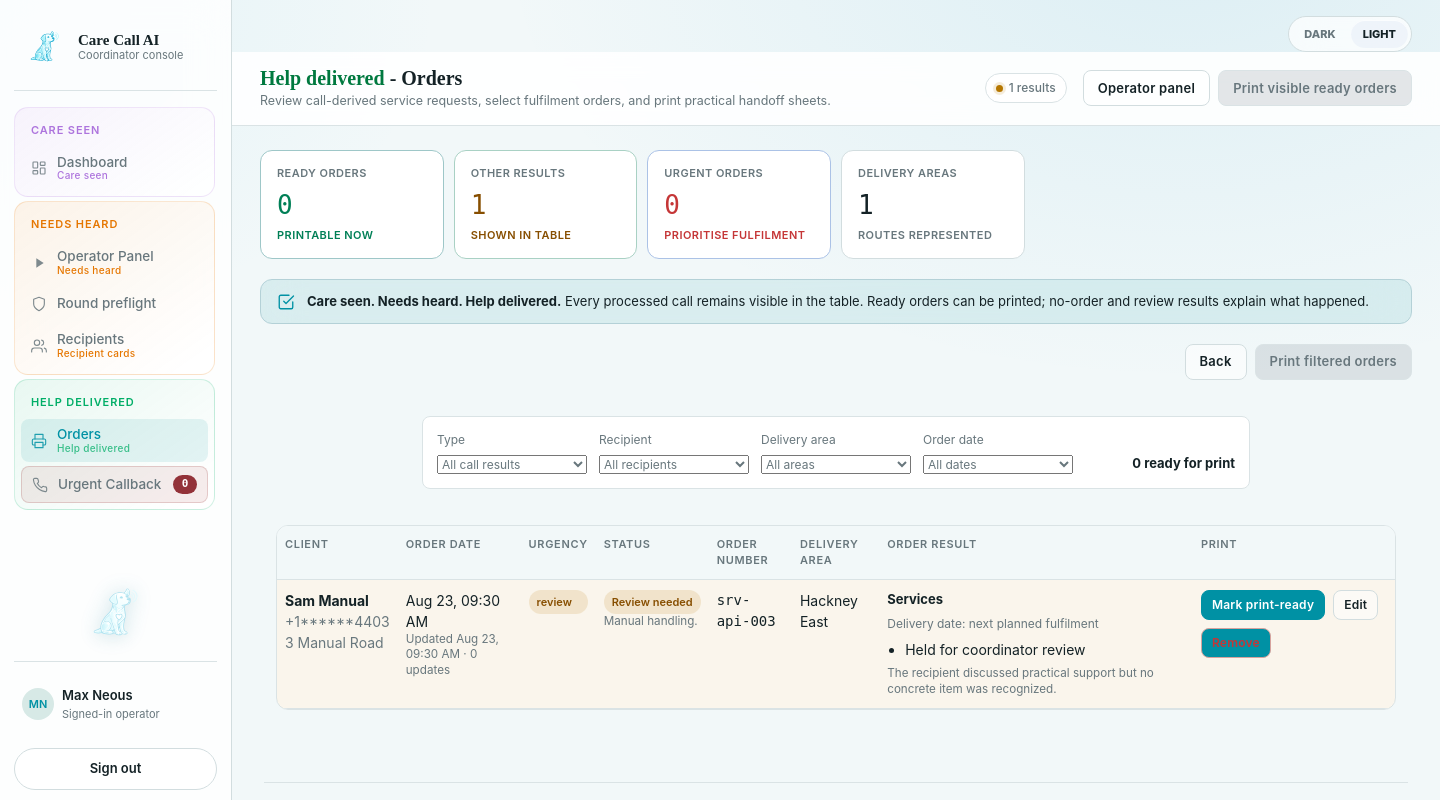
Scenario: PrintableOrderSheet › opens correction editing when marking a held result print-ready without recognized items
This screenshot has width=1440, height=800.
What coordinates should you click on to do the following:
click the button "Mark print-ready"
I would click on:
 (1263, 605)
Its box is top-left (1201, 590), bottom-right (1325, 620).
(page scrolled)
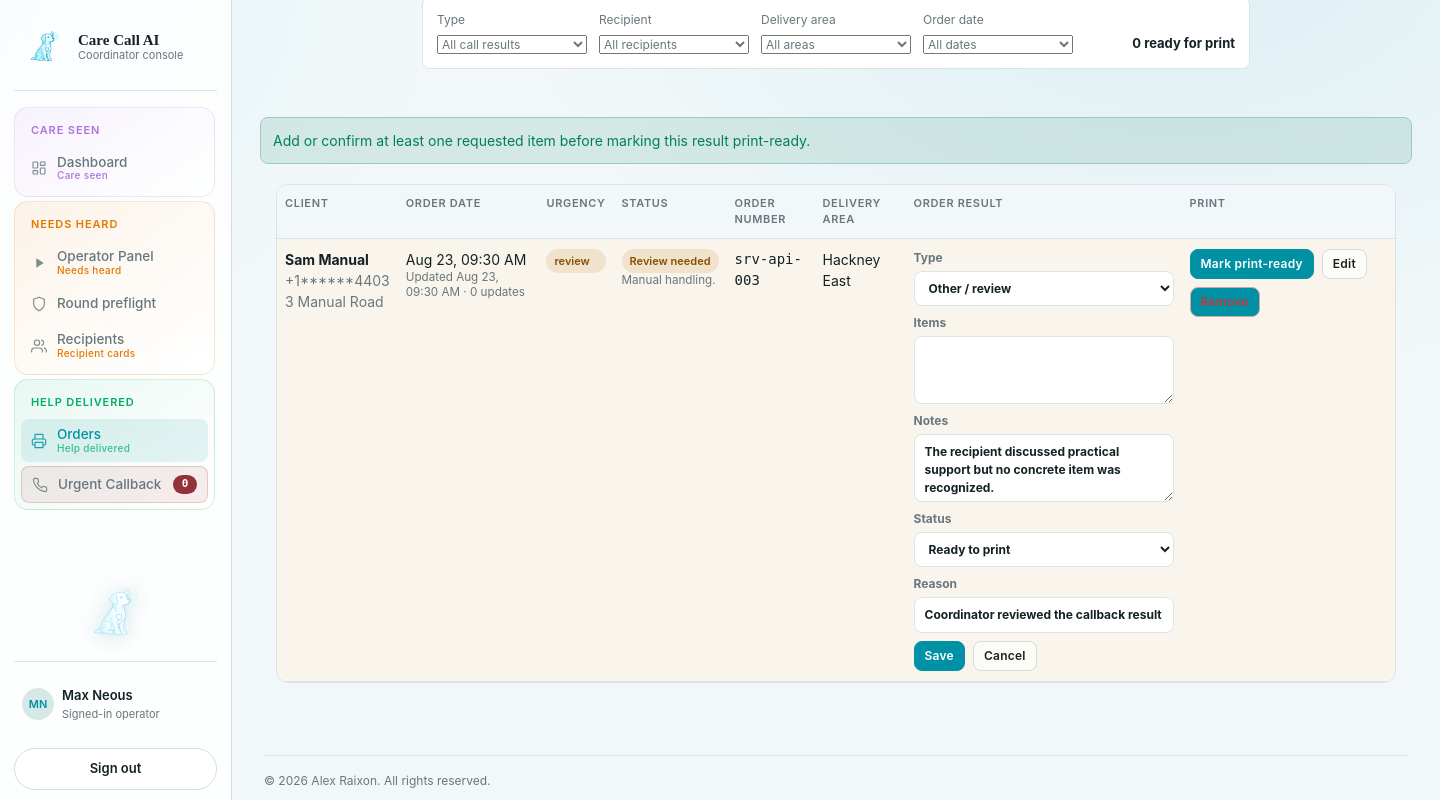
Expected: the message shows "Add or confirm at least one requested item", top-left (273, 132), bottom-right (810, 149)
Expected: the dropdown showing "Ready to print" is shown, top-left (914, 532), bottom-right (1174, 567)
